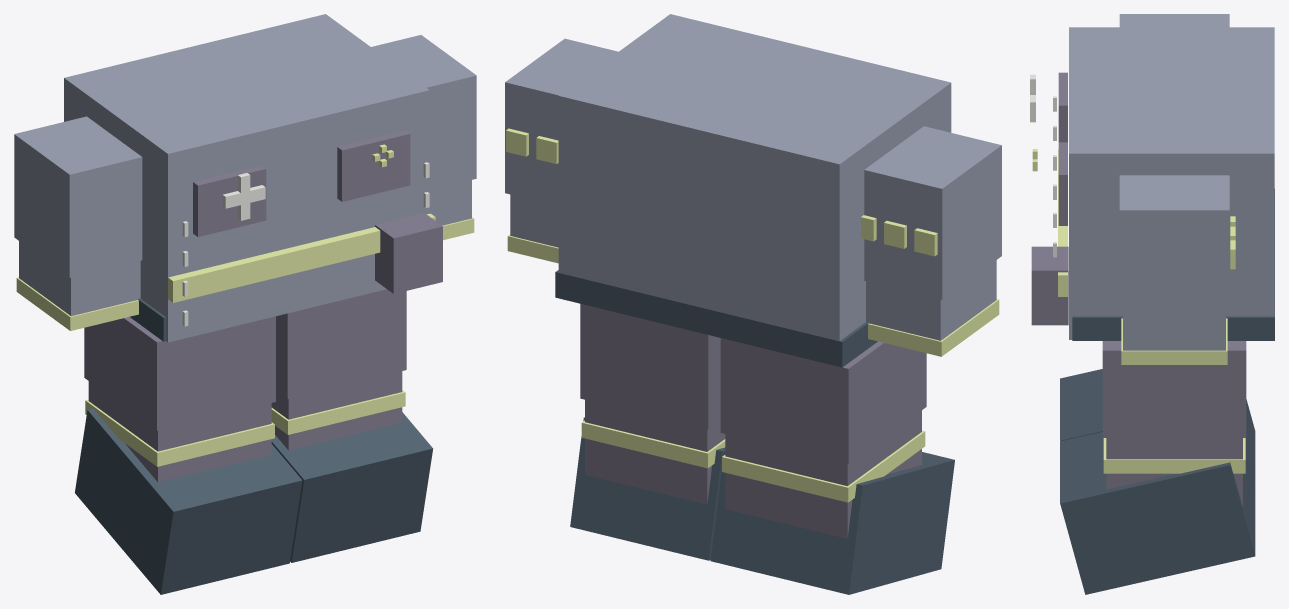
Rendered from paramedic-coral.glb.
3 renders of one model, left to right at view 1: azimuth 30°, elevation 25°; view 2: azimuth 150°, elevation 25°; view 3: azimuth 270°, elevation 25°, orthographic. The views are drawn at different scales.
Parts seen in each view (by area): view 1: jacket, shoe-Right, upper-sleeve-Right, trouser-Right, shoe-Left, trouser-Left, upper-sleeve-Left, lower-trouser-Right, reflective-band, lower-trouser-Left, lower-sleeve-Right, medical-pouch (+8 smaller); view 2: jacket, trouser-Right, shoe-Right, upper-sleeve-Right, trouser-Left, lower-trouser-Right, shoe-Left, medical-belt, upper-sleeve-Left, lower-trouser-Left, lower-sleeve-Right, reflective-leg-Right (+4 smaller); view 3: jacket, shoe-Left, upper-sleeve-Left, trouser-Left, lower-sleeve-Left, lower-trouser-Left, shoe-Right, medical-pouch, medical-belt, reflective-leg-Left, cuff-Left, upper-sleeve-Right (+3 smaller).
Boxes of the visible parts, x1=… form: jacket: x1=64, y1=14, x2=429, y2=342; shoe-Right: x1=75, y1=408, x2=302, y2=594; upper-sleeve-Right: x1=14, y1=116, x2=142, y2=277; trouser-Right: x1=84, y1=316, x2=275, y2=430; shoe-Left: x1=271, y1=412, x2=433, y2=562; trouser-Left: x1=276, y1=289, x2=406, y2=398; upper-sleeve-Left: x1=371, y1=35, x2=476, y2=189; lower-trouser-Right: x1=88, y1=381, x2=271, y2=482; reflective-band: x1=168, y1=213, x2=435, y2=302; lower-trouser-Left: x1=271, y1=371, x2=402, y2=450; lower-sleeve-Right: x1=19, y1=241, x2=140, y2=316; medical-pouch: x1=375, y1=213, x2=442, y2=293; jacket: x1=558, y1=14, x2=951, y2=340; trouser-Right: x1=720, y1=338, x2=926, y2=463; shoe-Right: x1=710, y1=451, x2=954, y2=594; upper-sleeve-Right: x1=864, y1=126, x2=1001, y2=299; trouser-Left: x1=580, y1=304, x2=720, y2=429; lower-trouser-Right: x1=725, y1=410, x2=921, y2=538; shoe-Left: x1=570, y1=417, x2=725, y2=560; medical-belt: x1=555, y1=270, x2=877, y2=367; upper-sleeve-Left: x1=505, y1=38, x2=618, y2=205; lower-trouser-Left: x1=585, y1=400, x2=725, y2=504; lower-sleeve-Right: x1=866, y1=260, x2=996, y2=340; reflective-leg-Right: x1=722, y1=430, x2=925, y2=502; jacket: x1=1069, y1=27, x2=1274, y2=339; shoe-Left: x1=1060, y1=432, x2=1255, y2=594; upper-sleeve-Left: x1=1119, y1=175, x2=1229, y2=312; trouser-Left: x1=1102, y1=341, x2=1246, y2=437; lower-sleeve-Left: x1=1123, y1=312, x2=1225, y2=350; lower-trouser-Left: x1=1106, y1=438, x2=1242, y2=506; shoe-Right: x1=1060, y1=369, x2=1255, y2=492; medical-pouch: x1=1031, y1=246, x2=1068, y2=325; medical-belt: x1=1072, y1=189, x2=1274, y2=340; reflective-leg-Left: x1=1103, y1=438, x2=1245, y2=473; cuff-Left: x1=1121, y1=318, x2=1227, y2=364; upper-sleeve-Right: x1=1119, y1=14, x2=1229, y2=27.
Bounding box in the file's own units: 1.07 × 1.13 × 0.566.
